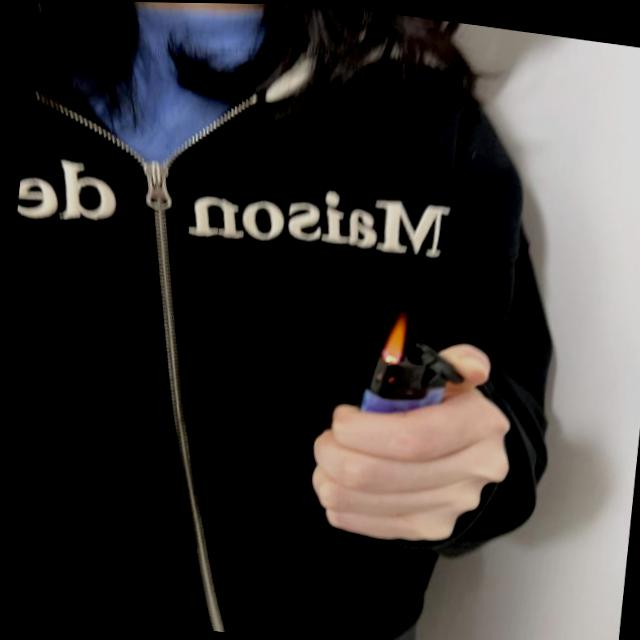helmet: (374, 306, 408, 365)
